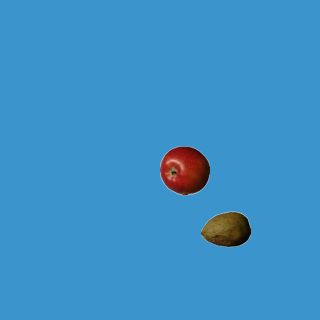Apple Braeburn: (159, 145, 209, 195)
Papaya: (200, 204, 250, 254)
